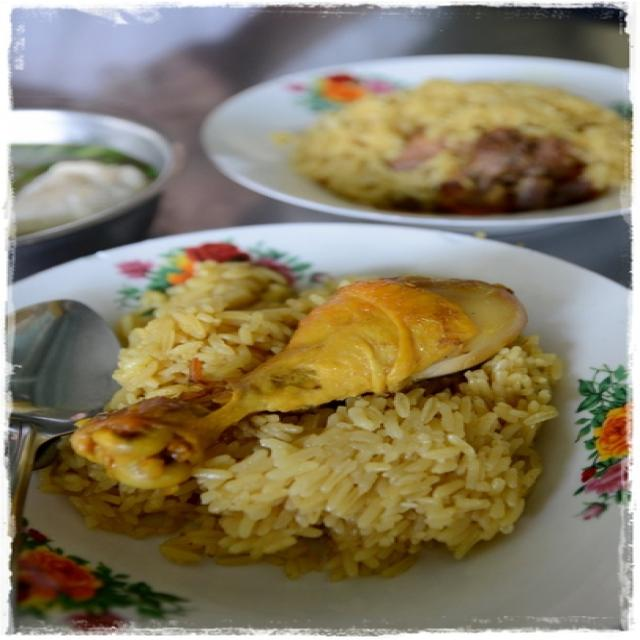米饭主食: (19, 34, 608, 613)
